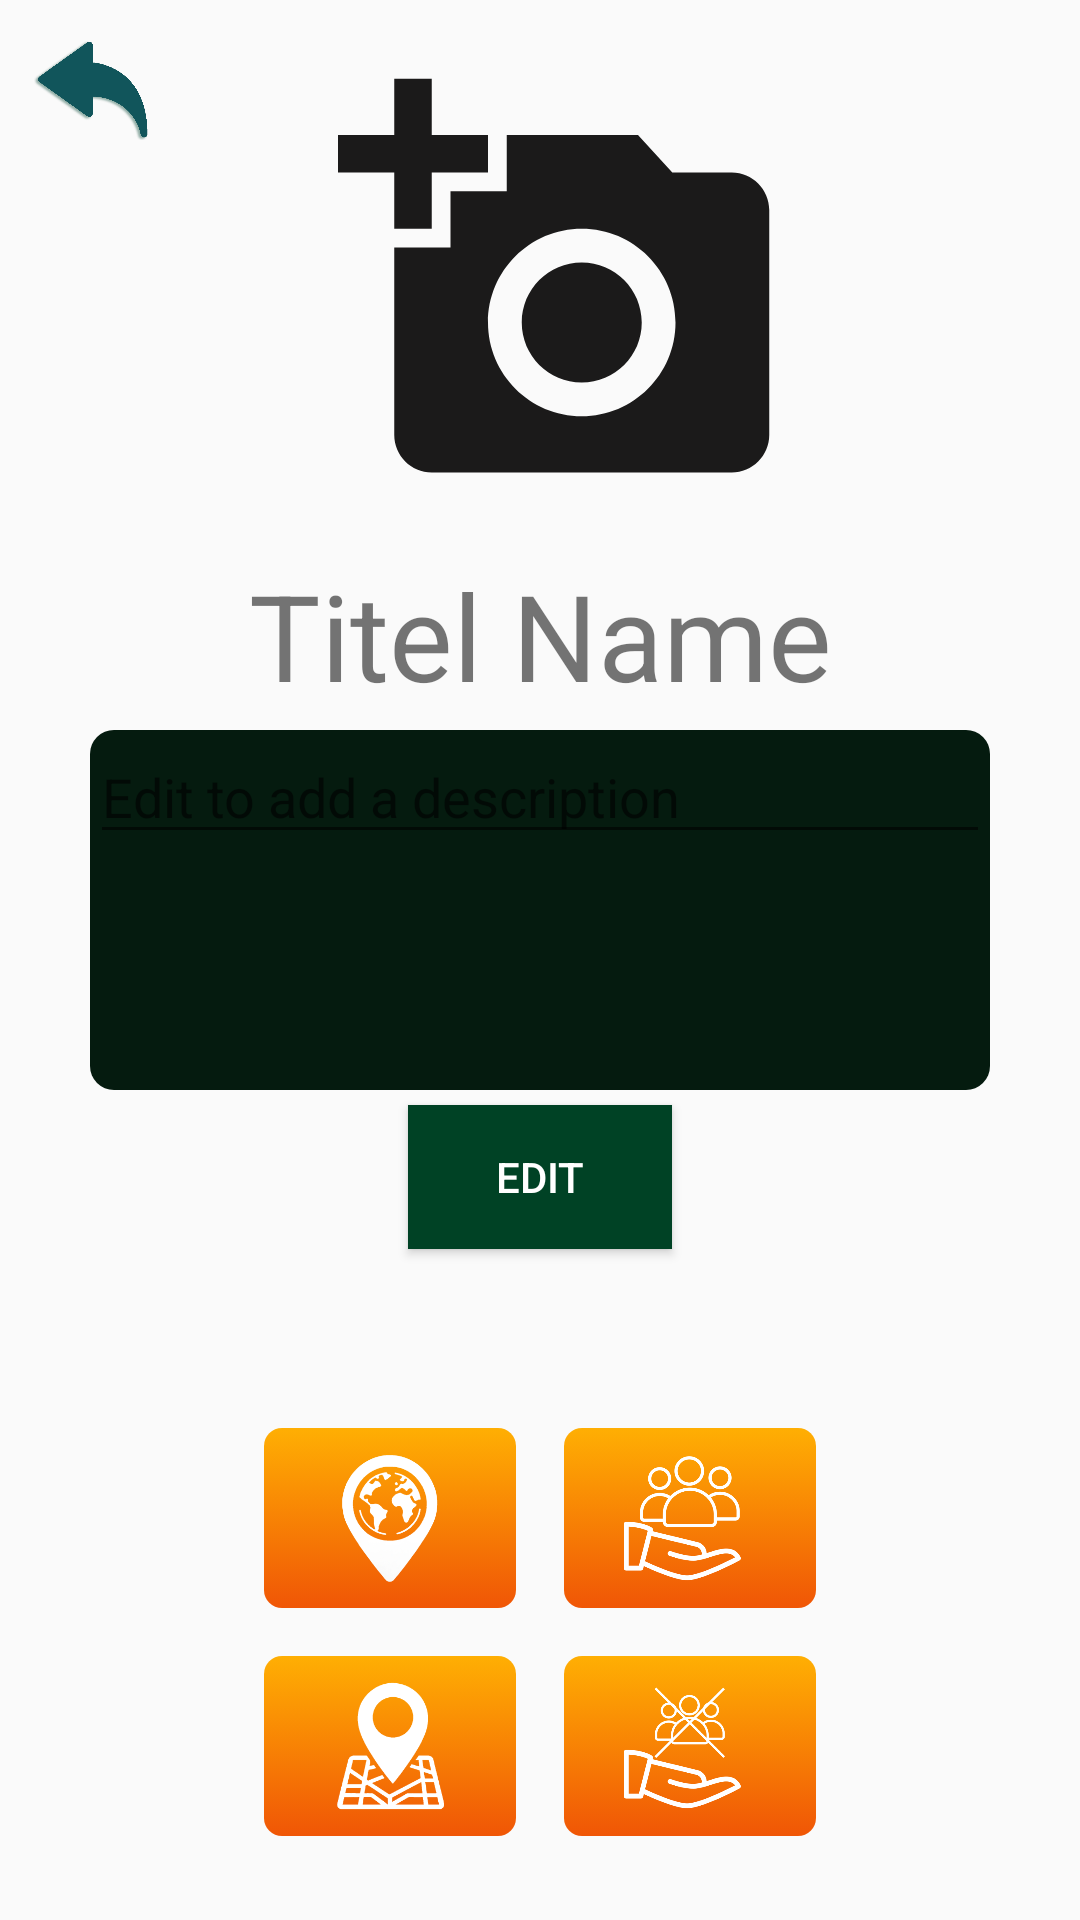

Point at icon controls on the screen. Image size 1080w x 1920h, points as [x,y].
back arrow: [91,91]
save gps medium: [390,1518]
share public: [690,1518]
show gps medium: [390,1746]
stop share: [690,1746]
